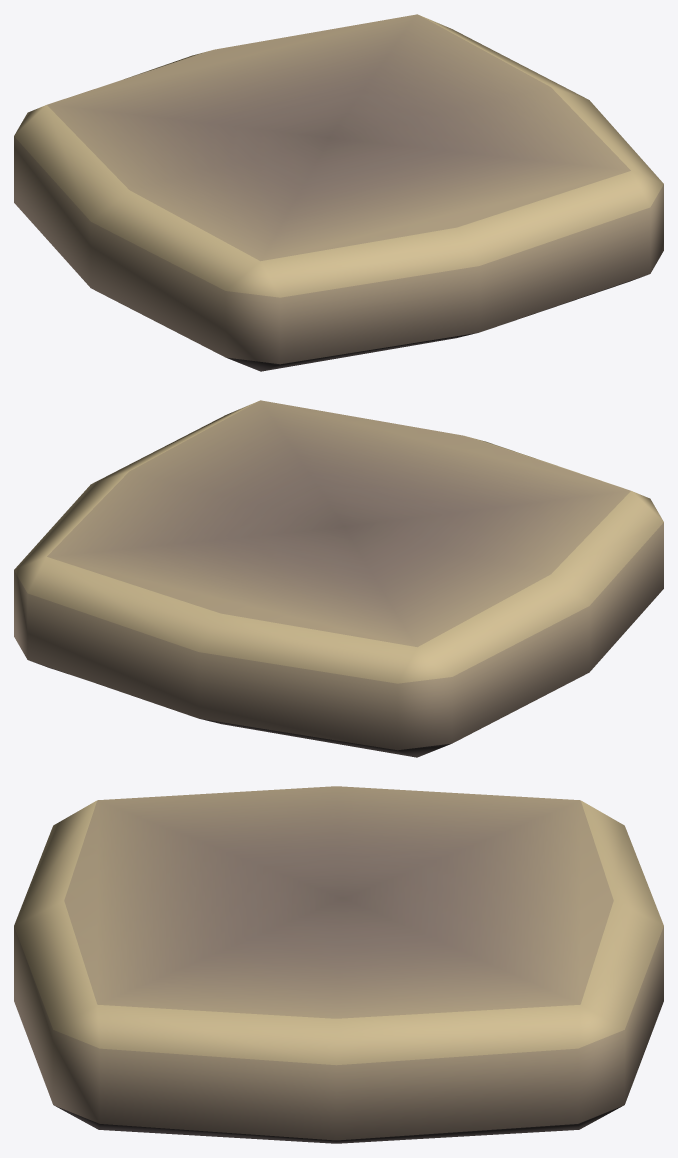
Rendered from wax_spill_2_LOD_setup.fbx.
3 views of the same model, one above another, from view 1: azimuth 30°, elevation 25°; view 2: azimuth 150°, elevation 25°; view 3: azimuth 270°, elevation 25° (orthographic). The views are drawn at different scales.
Parts seen in each view (by area): view 1: wax_spill_2_LOD0; view 2: wax_spill_2_LOD0; view 3: wax_spill_2_LOD0.
Part boxes in pixels (left/top/right/bottom): wax_spill_2_LOD0: left=14, top=14, right=663, bottom=371; wax_spill_2_LOD0: left=14, top=400, right=663, bottom=757; wax_spill_2_LOD0: left=14, top=786, right=663, bottom=1143.
Size of what is drawn, in the model's own units: 46.88 by 9.98 by 46.81.
